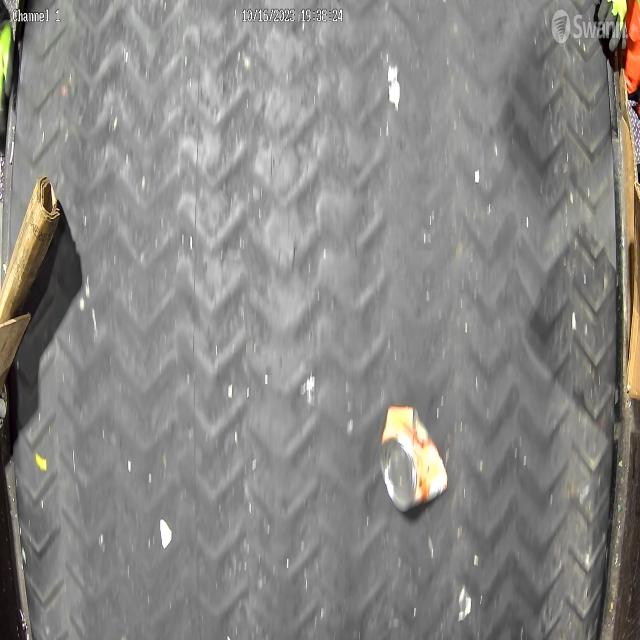can: (379, 400, 449, 516)
